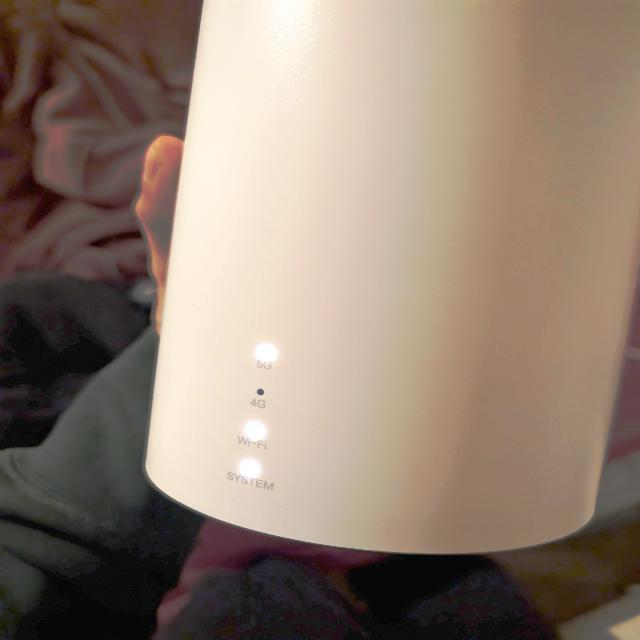modem: (134, 0, 640, 559)
off: (247, 382, 274, 405)
on: (242, 331, 282, 374), (232, 454, 266, 488), (237, 416, 270, 444)
